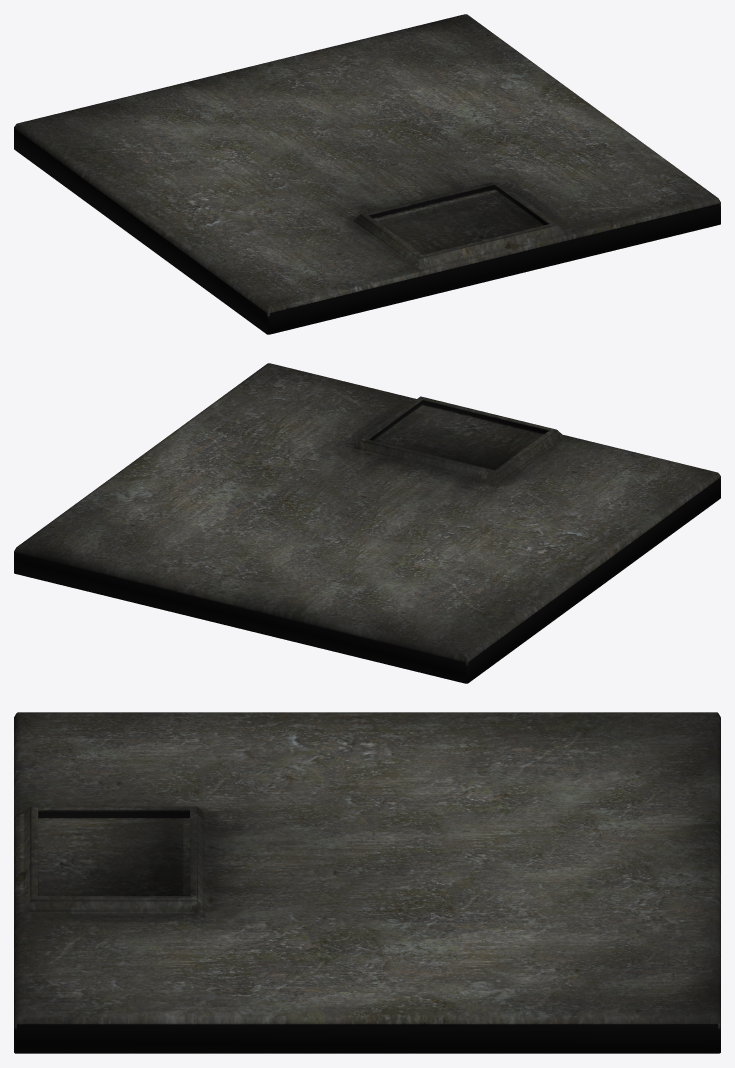
Rendered from floor console.fbx.
3 views of the same model, one above another, from view 1: azimuth 30°, elevation 25°; view 2: azimuth 150°, elevation 25°; view 3: azimuth 270°, elevation 25° (orthographic). The views are drawn at different scales.
Parts seen in each view (by area): view 1: Cube.035; view 2: Cube.035; view 3: Cube.035.
Boxes of the visible parts, bbox=[...] form: Cube.035: bbox=[14, 14, 720, 334]; Cube.035: bbox=[14, 363, 720, 683]; Cube.035: bbox=[14, 712, 720, 1053].
Bounding box in the file's own units: 7.51 × 104 × 101.
1 material, 1 textured.
